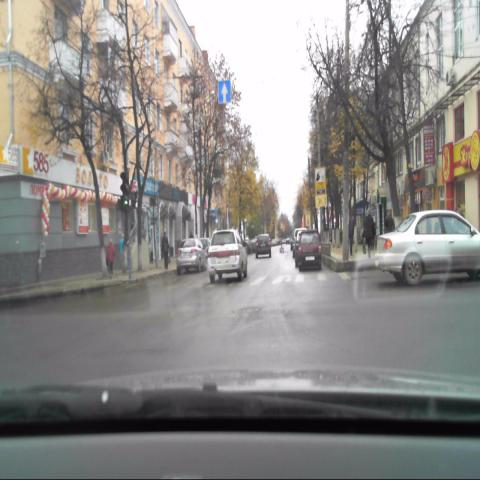5_5: (217, 80, 231, 105)
